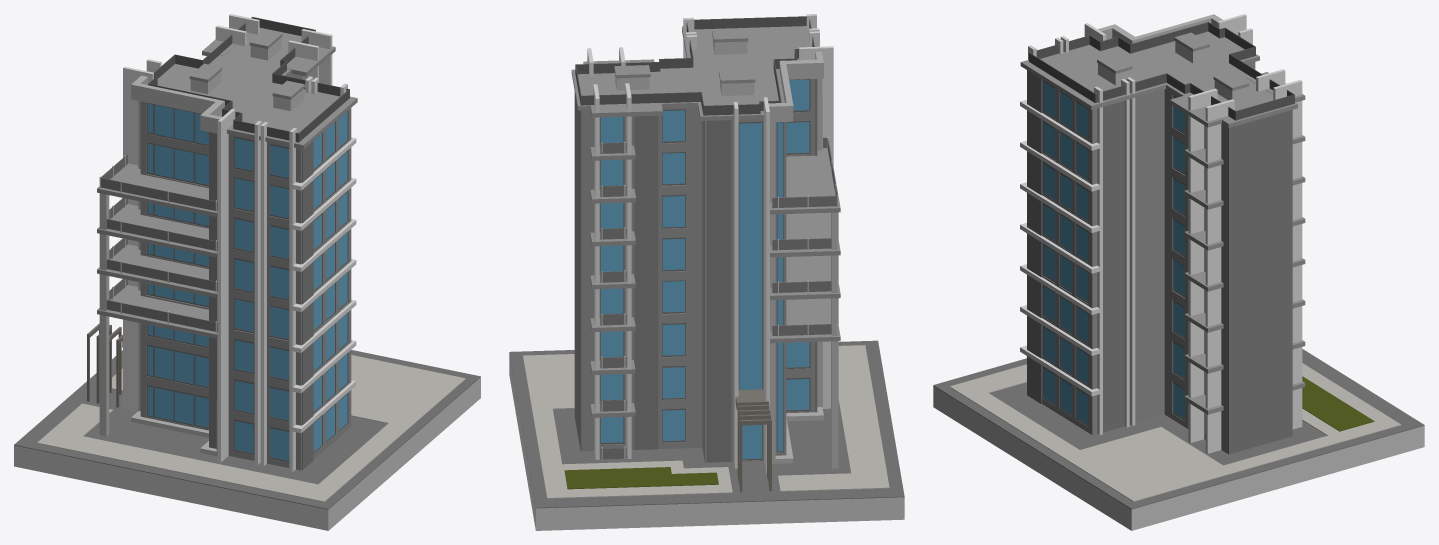
File: Building.glb
3 views of the same model, side by side, from view 1: azimuth 30°, elevation 25°; view 2: azimuth 150°, elevation 25°; view 3: azimuth 270°, elevation 25° (orthographic). The views are drawn at different scales.
Visible parts, largest first — view 1: Cube.13495; view 2: Cube.13495; view 3: Cube.13495.
Part boxes in pixels (<box>): Cube.13495: <box>14,14,480,530</box>; Cube.13495: <box>509,14,904,530</box>; Cube.13495: <box>933,14,1424,530</box>.
Size of the model in its own units: 0.6761 by 0.5605 by 0.6762.
15 materials, 10 textured.
